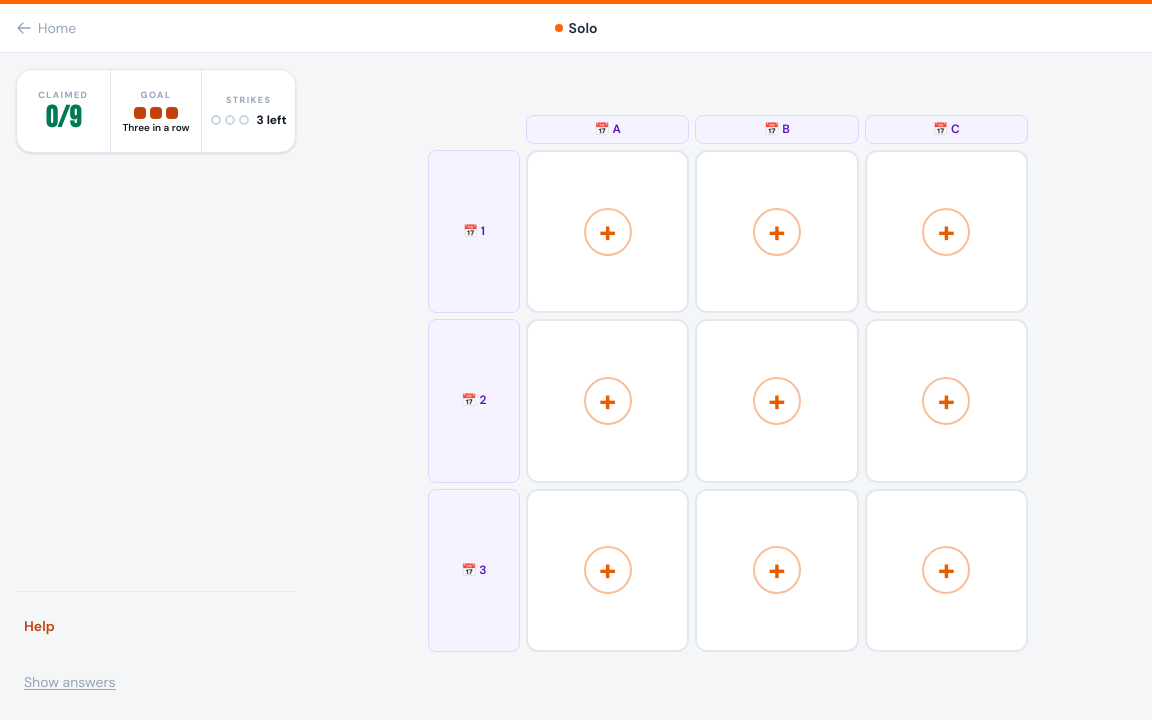
GameBoard keyboard focus restoration with the real PlayerSearch dialog › moves focus to Play Again when Solo strikes run out (incorrect outcome that ends the game, no enabled cell exists)
Click the button named "1 row and A column. Available. Choose a player." at (608, 232), box [526,150,689,313]
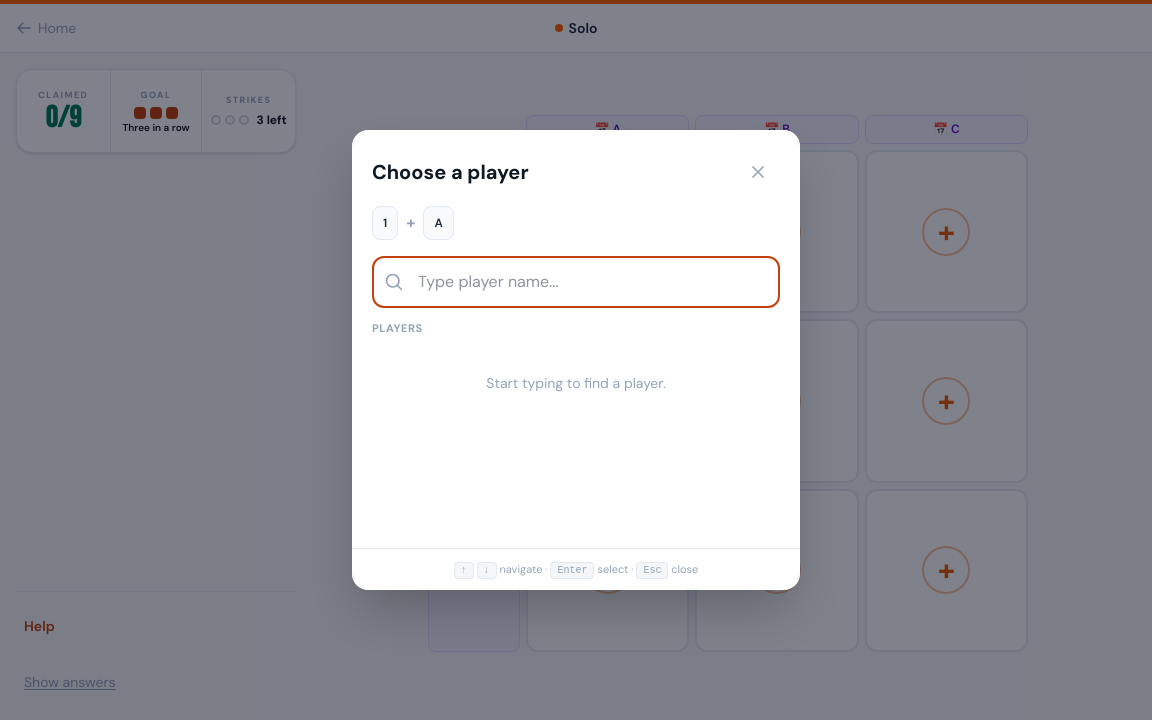
Type "nando" into the dropdown with placeholder "Type player name..." at (576, 282), box [372,256,780,308]
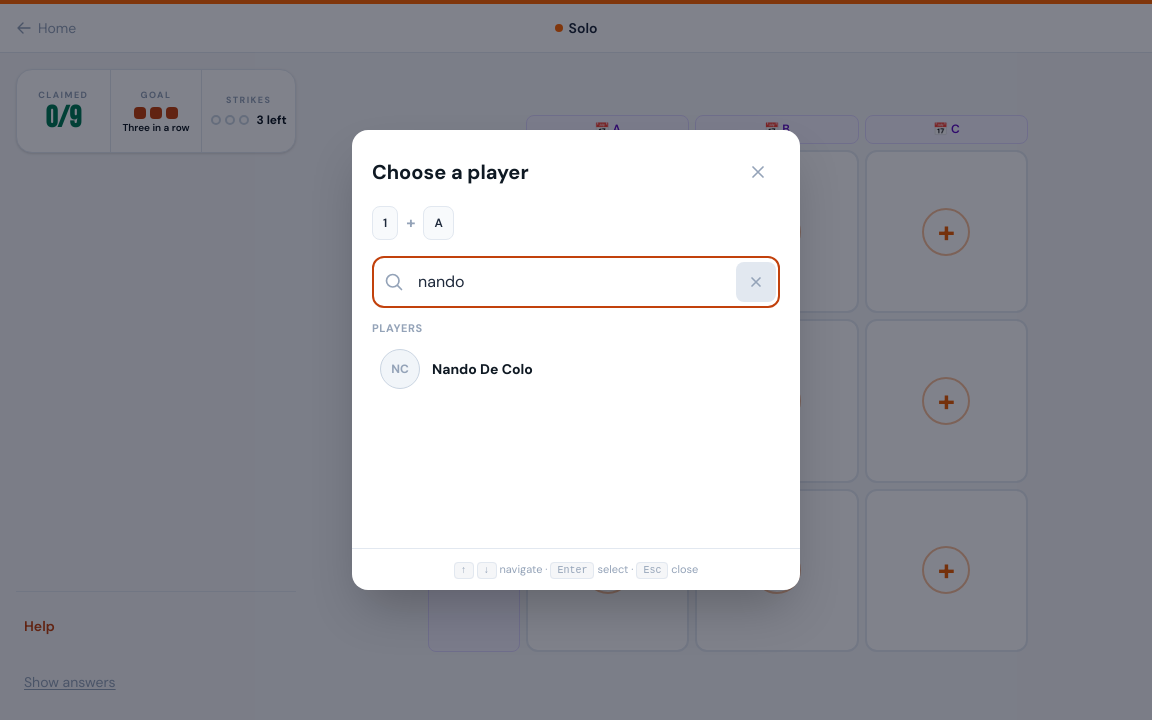
Click the text "Nando De Colo" at (482, 368), box [432,358,533,378]
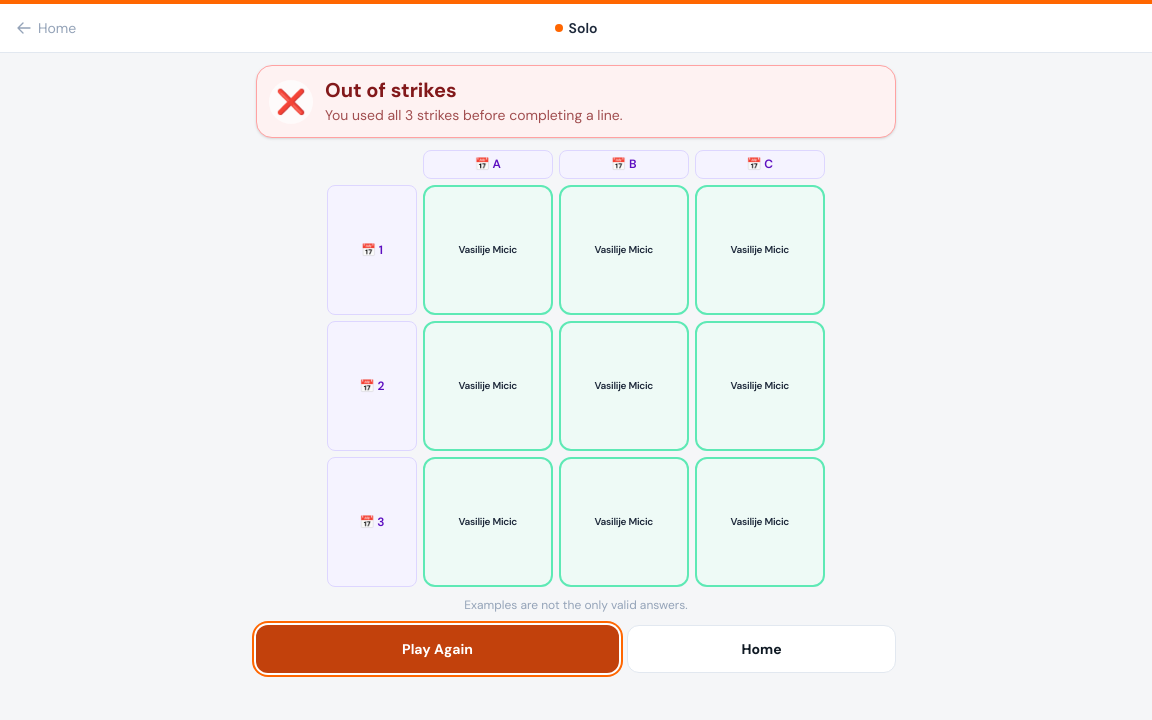
Now the heading "Choose a player" is gone
